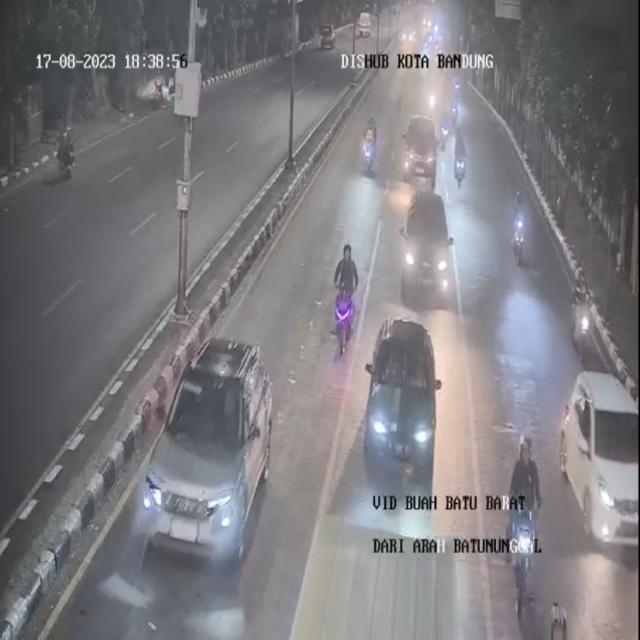cars: (124, 340, 290, 574), (550, 358, 640, 544), (367, 305, 440, 489), (403, 192, 454, 300), (394, 99, 438, 193), (400, 27, 416, 43), (421, 11, 435, 28)
motorcycle: (499, 426, 542, 597), (329, 232, 362, 348), (570, 261, 595, 353), (506, 192, 532, 269), (454, 132, 469, 188), (364, 116, 378, 176), (446, 90, 465, 128), (422, 84, 441, 114), (439, 109, 451, 153), (449, 70, 467, 88), (418, 38, 432, 51), (436, 44, 443, 56)
